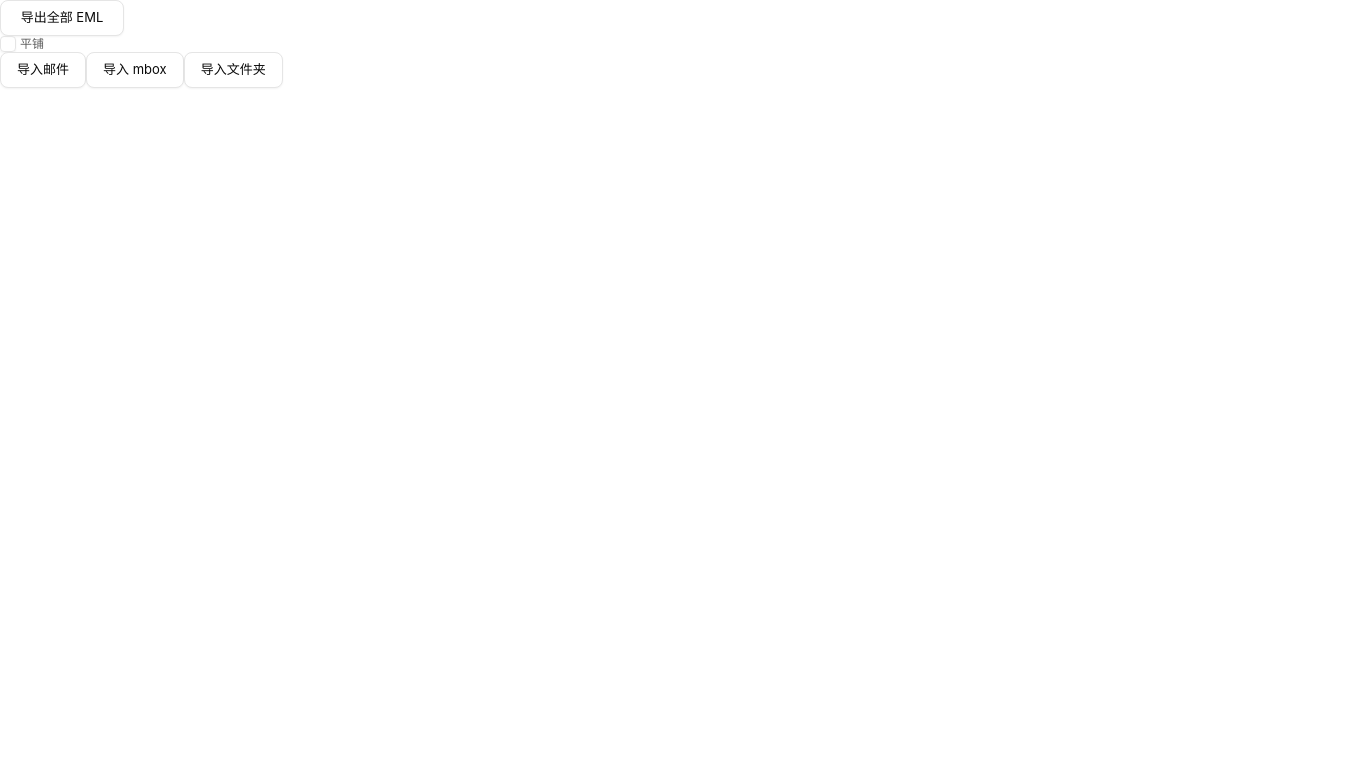
it: shows the import destination and external availability
Click the button "导入邮件": [43, 70] box [0, 52, 86, 88]
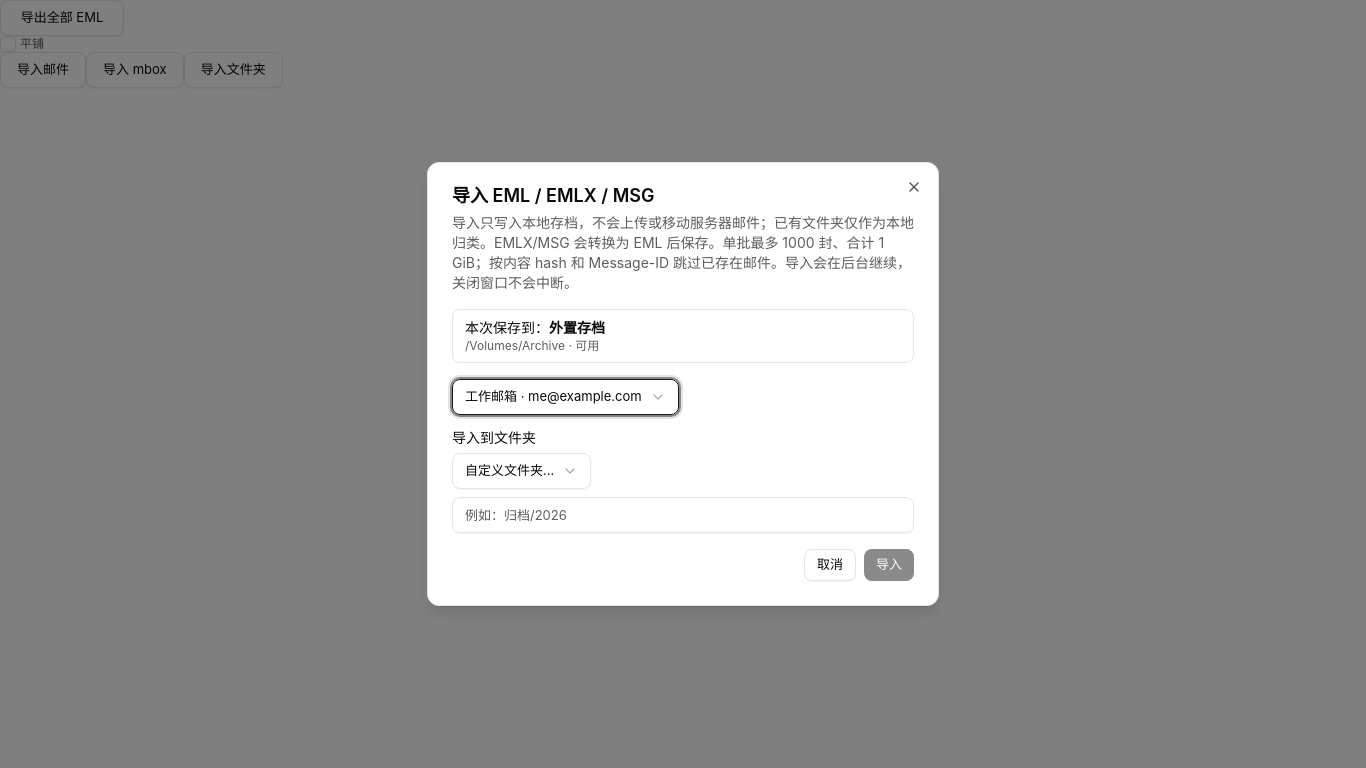
Expected: the text "本次保存到：" is shown, [465, 319, 549, 336]
Expected: the text "外置存档" is shown, [549, 319, 605, 336]
Expected: the text "/Volumes/Archive · 可用" is shown, [465, 338, 599, 353]
